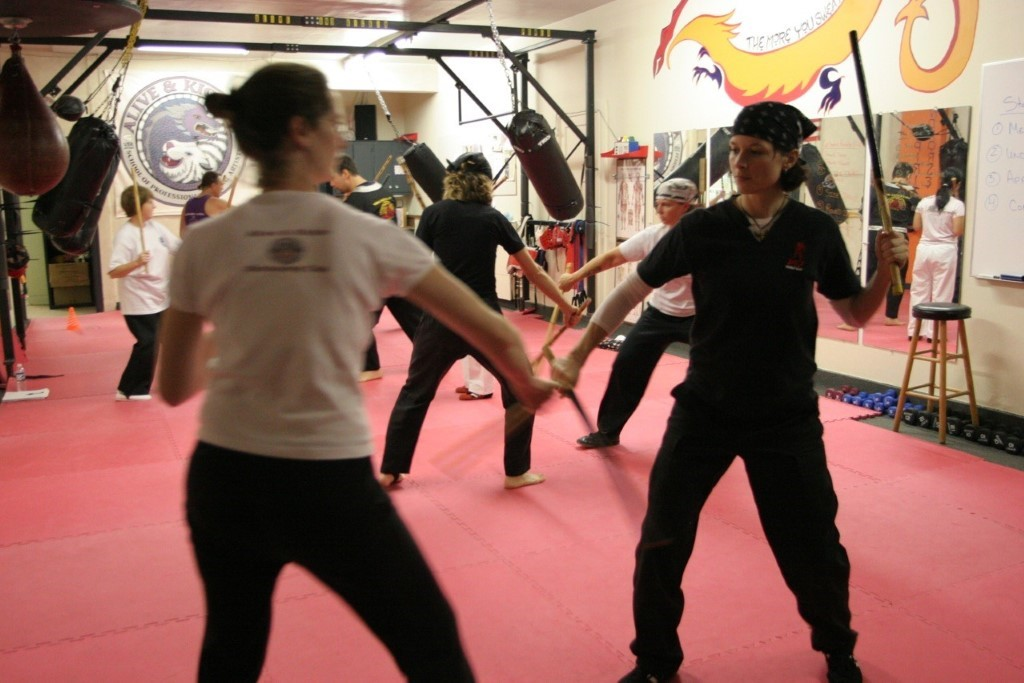baston_e: (848, 38, 901, 289), (531, 303, 587, 365), (545, 266, 571, 337), (131, 172, 148, 269), (398, 164, 425, 209), (373, 158, 390, 177), (227, 177, 239, 203), (491, 177, 507, 192)
baston_v: (889, 284, 907, 297), (539, 345, 554, 360), (846, 28, 860, 38), (565, 260, 575, 271), (397, 156, 407, 165), (585, 294, 594, 303), (950, 175, 958, 182), (144, 266, 150, 274), (130, 166, 136, 173), (233, 173, 240, 179), (388, 153, 393, 159)
